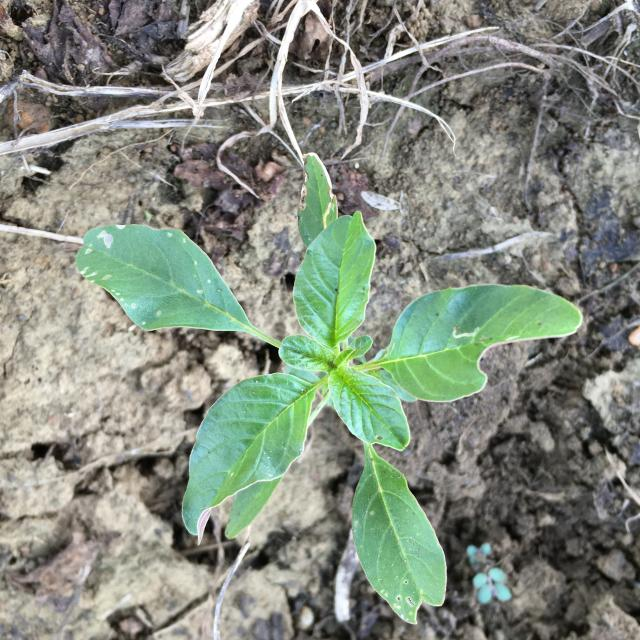SpottedSpurge: (466, 543, 512, 603)
Waterhemp: (76, 152, 583, 626)
